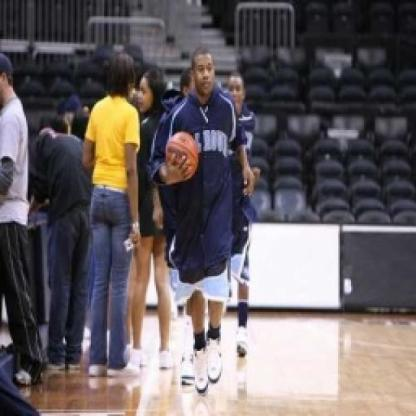basketball: (160, 129, 204, 185)
